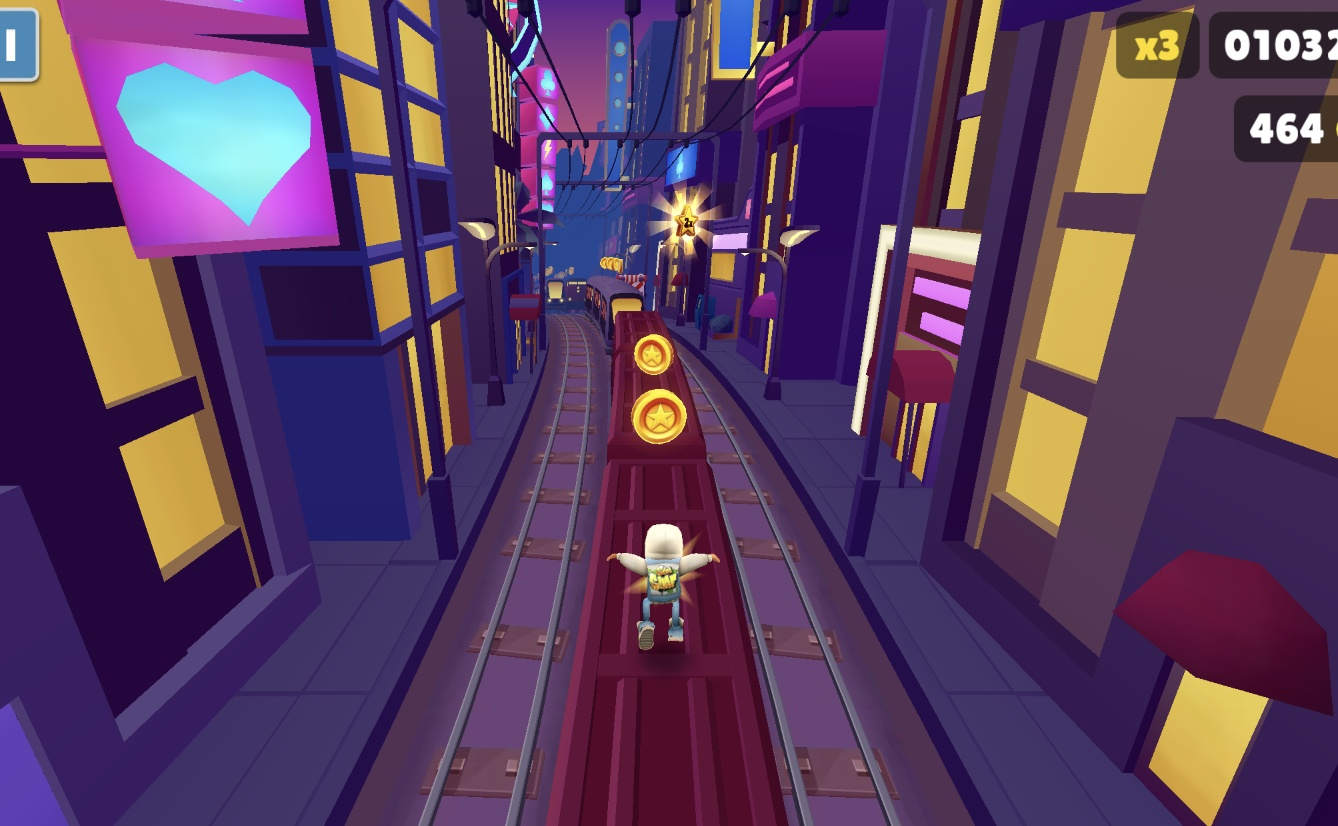train: (549, 299, 811, 826)
